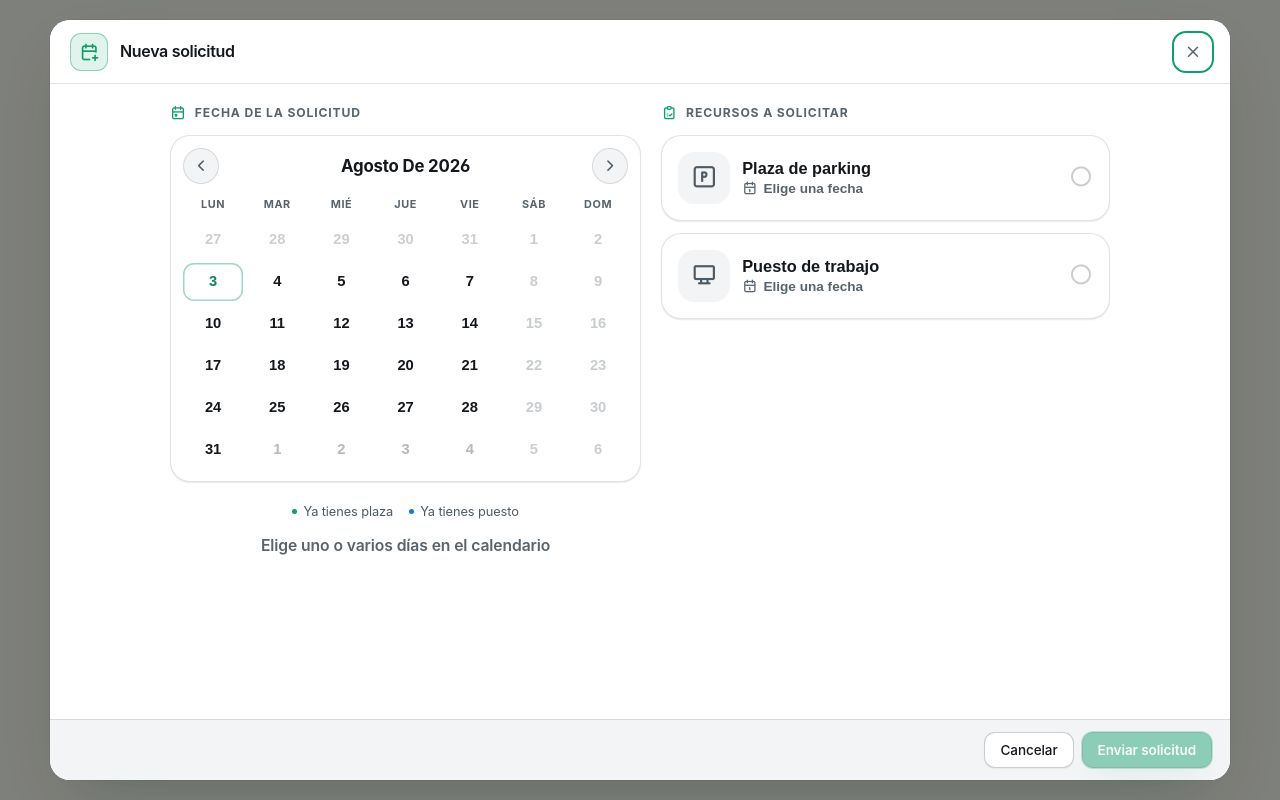
Test case: CreateRequestModal (unified request) › should_lock_resource_card_when_single_day_already_reserved
Click the button with class "is-today".
click(213, 282)  # box [183,263,243,301]
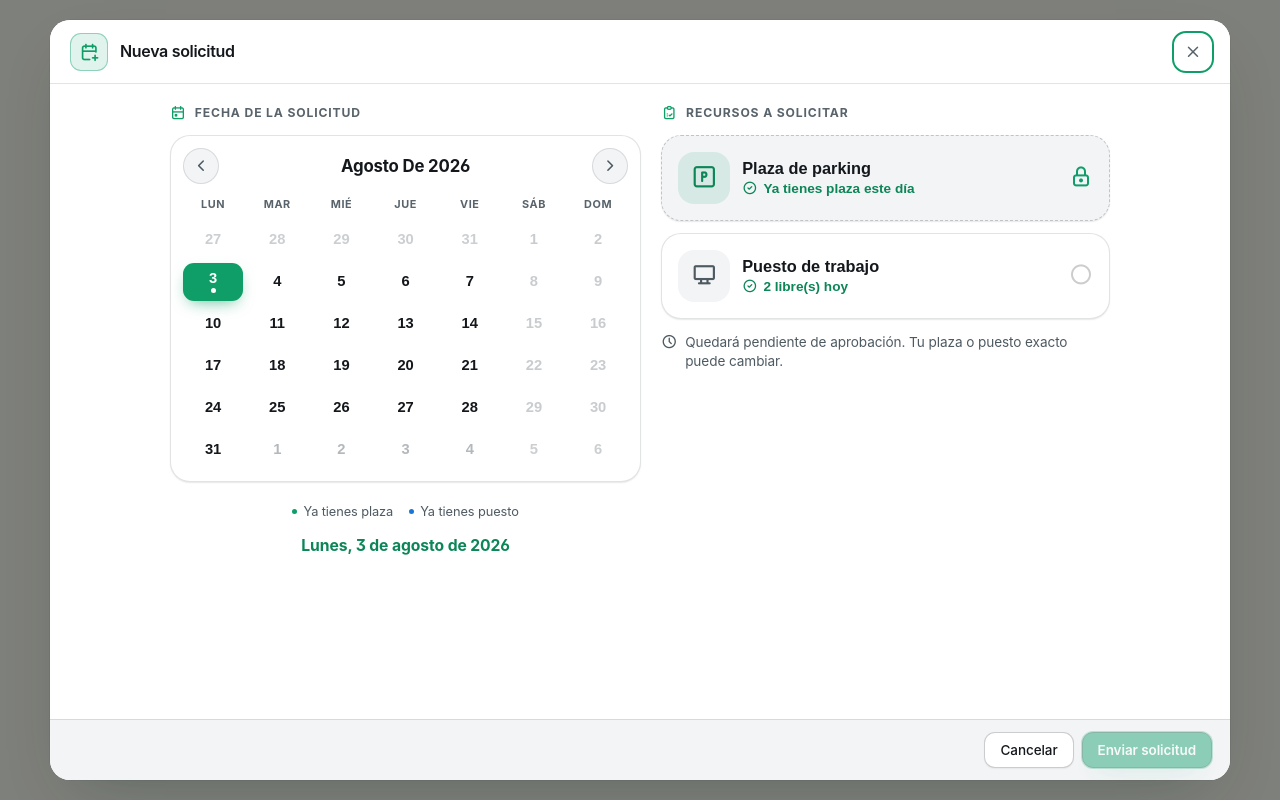
Expected: the button "Enviar solicitud" is disabled, [1082,732,1212,768]
Expected: the text "Ya tienes plaza este día" is shown, [742,181,914,196]
Expected: the button "Plaza de parking Ya tienes plaza este día" is disabled, [662,136,1109,220]
